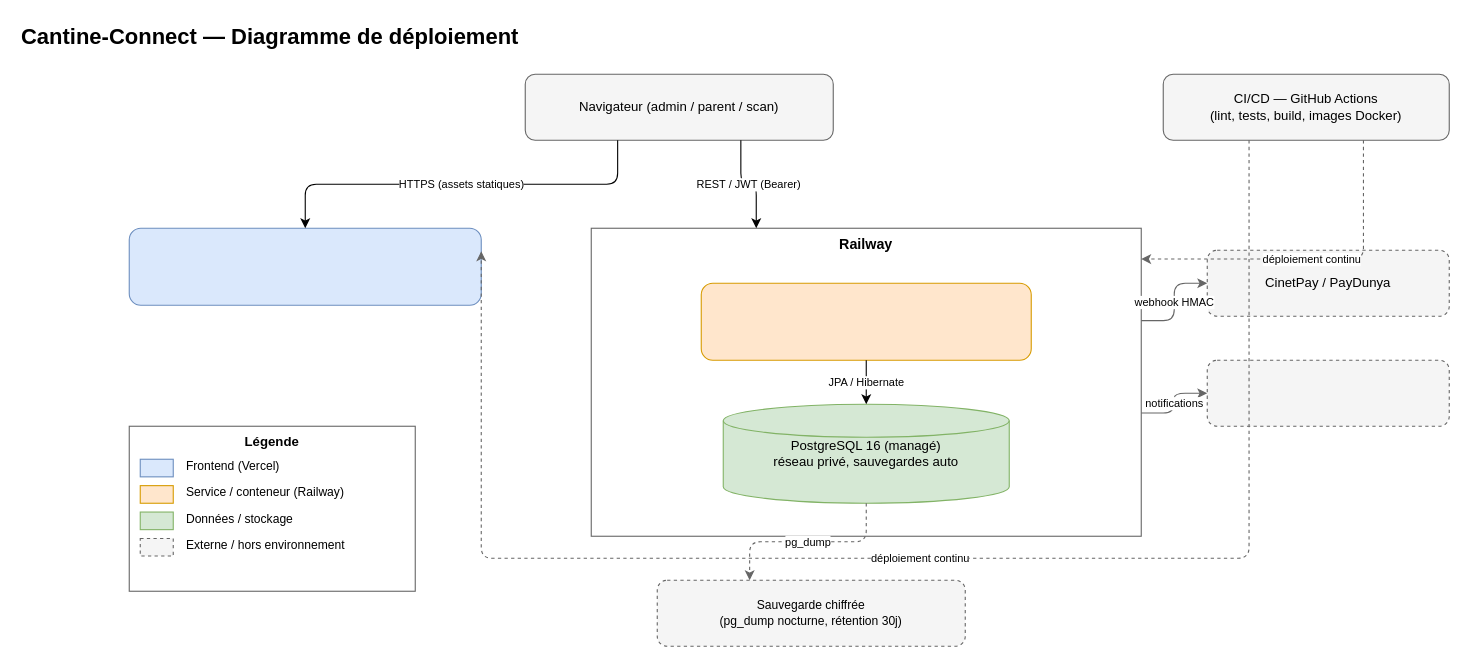
This 1469x666 diagram has some shape labels left out. The shapes that lost their labels are listed below. From the top down, each one's centre as x and y in pixels, then its label:
At (x=304, y=266): "Vercel — CDN global React.js 18 + Vite (build statique)".
At (x=865, y=321): "cantine-connect-service (conteneur Docker, Spring Boot)".
At (x=1327, y=392): "SMS / E-mail".
